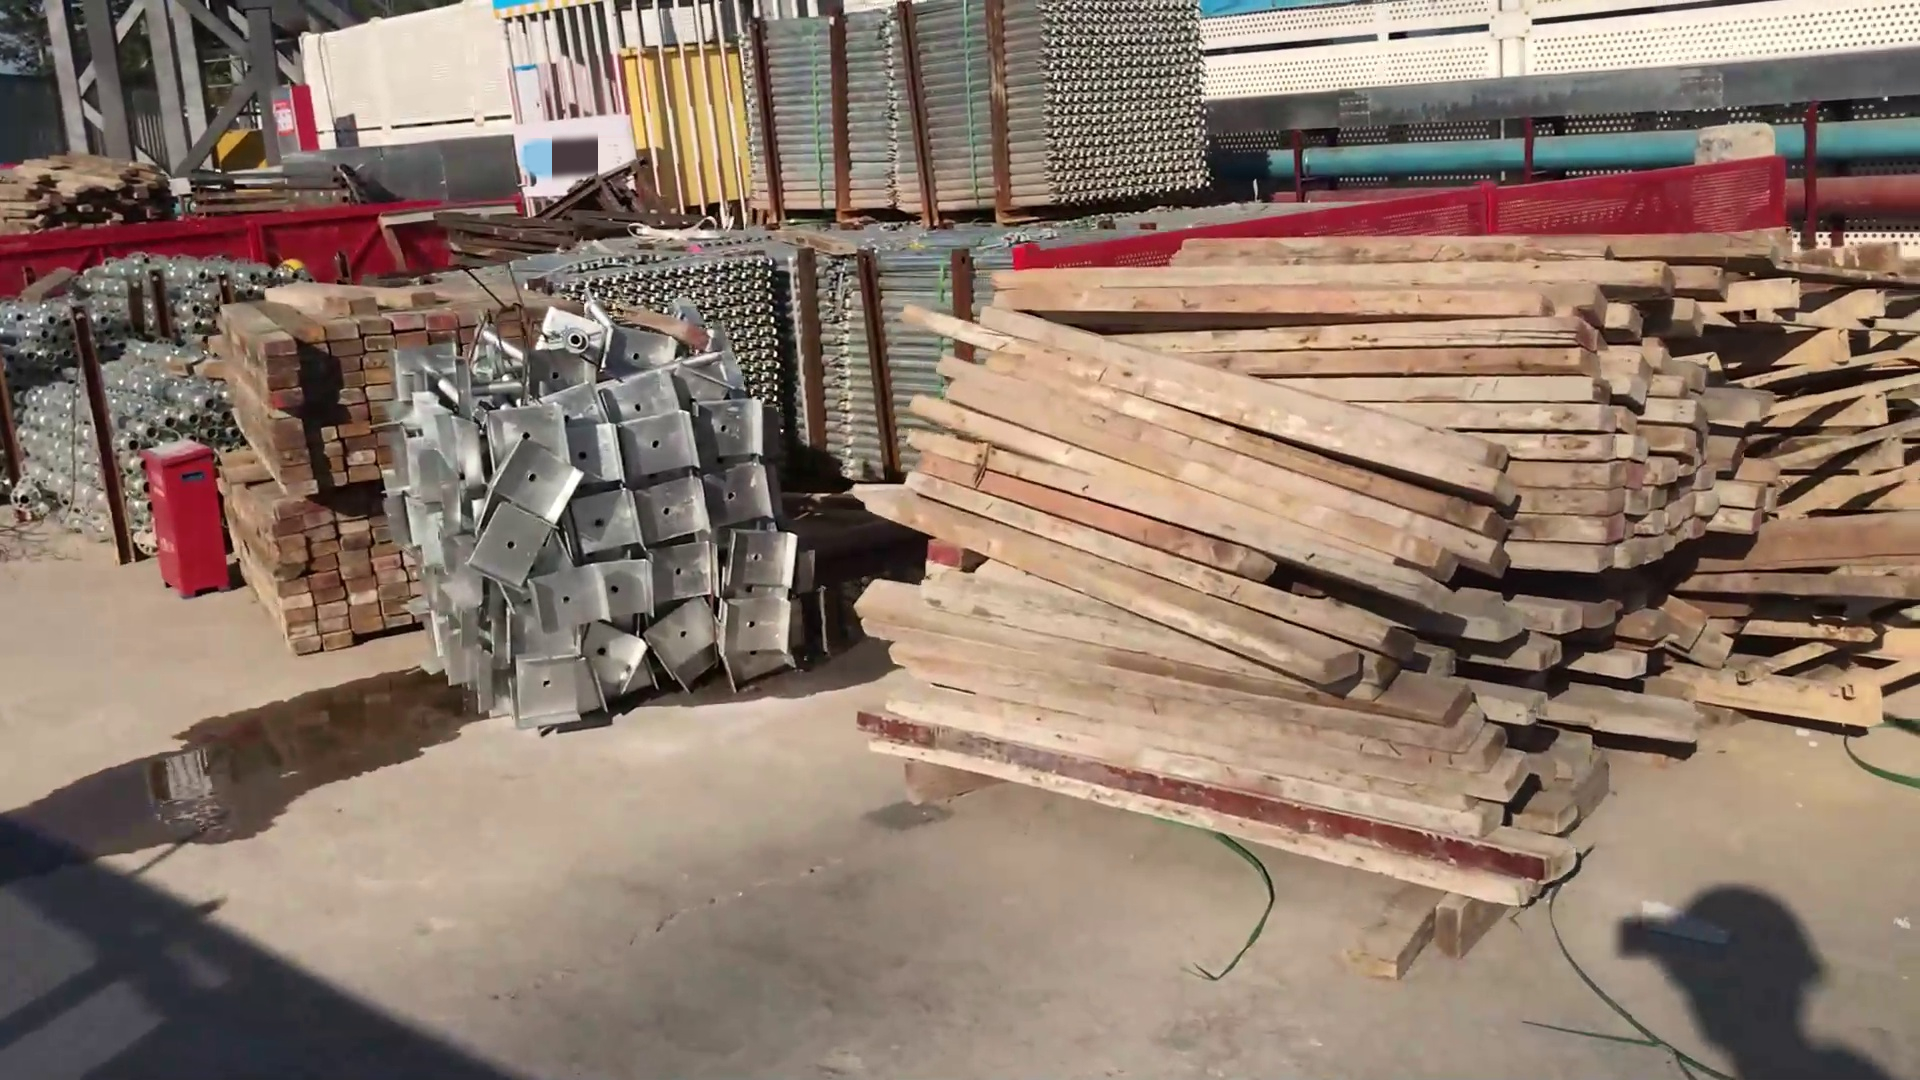fence: (1300, 154, 1789, 231)
scaffold: (765, 4, 1215, 215), (12, 251, 216, 562), (636, 265, 815, 365)
wood: (905, 260, 1753, 905), (233, 281, 419, 633), (8, 160, 182, 216)
